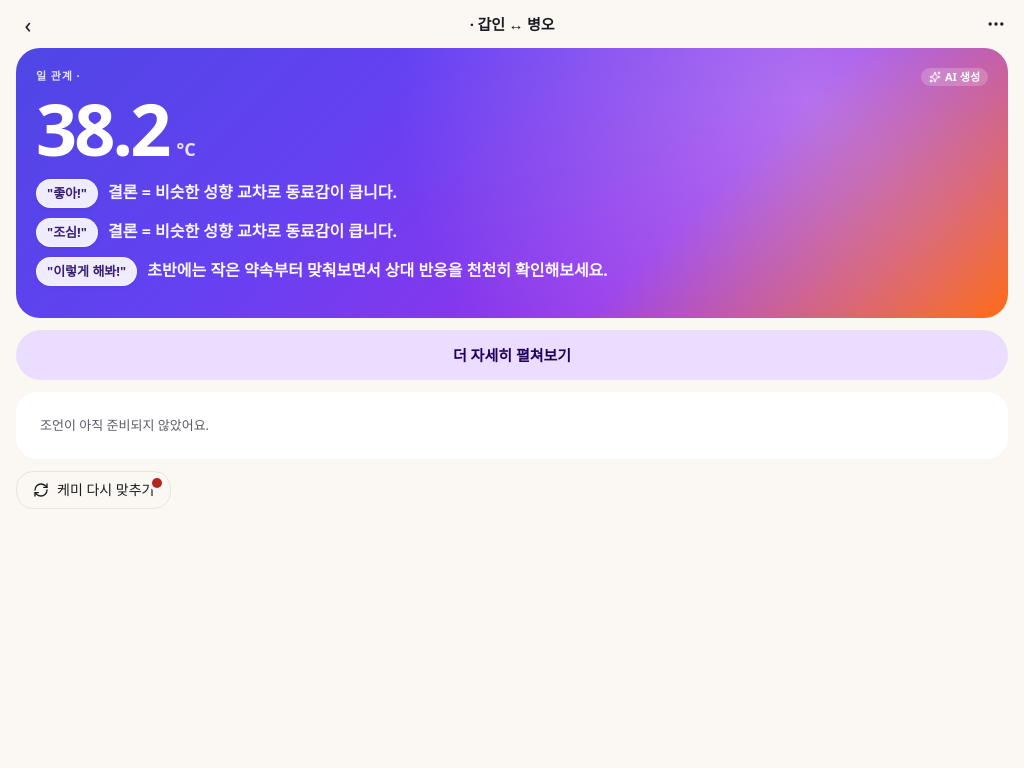
Test: HapcardView 쉽게 보기 토글 (G-5) › 저장된 OFF 선호가 있으면 원문 보기로 시작한다
Click the button "더 자세히 펼쳐보기".
click(512, 355)  # box [16,330,1008,380]
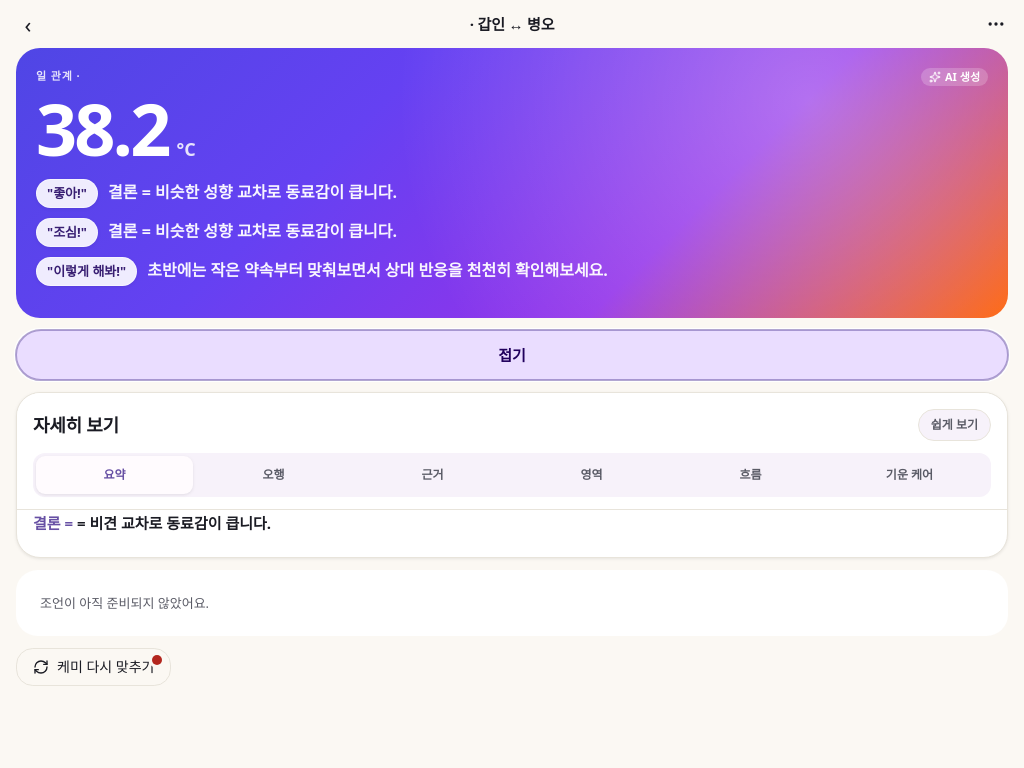
Check: the text "= 비견 교차로 동료감이 큽니다." is shown, box [77,513,271,533]
